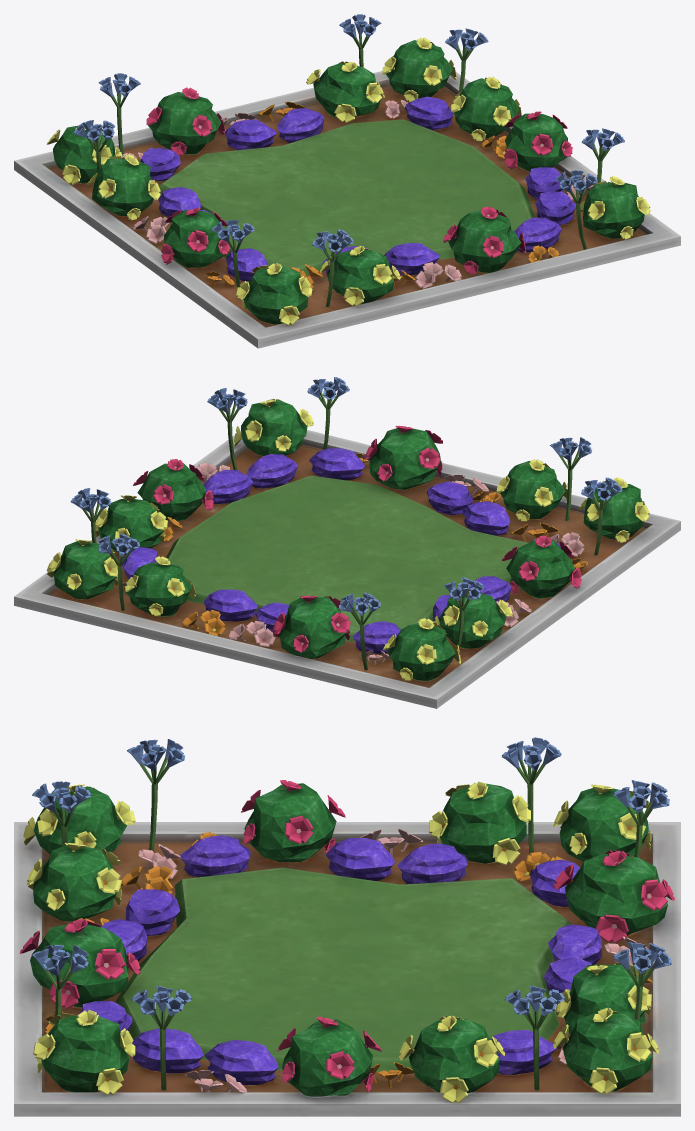
Rendered from garden.glb.
The picture shows the model from 3 angles, top to bottom: view 1: azimuth 30°, elevation 25°; view 2: azimuth 150°, elevation 25°; view 3: azimuth 270°, elevation 25°; orthographic projection. The views are drawn at different scales.
Visible parts, largest first — view 1: Garden_mesh; view 2: Garden_mesh; view 3: Garden_mesh.
Part boxes in pixels (x1,y1,x2,y2): Garden_mesh: (14,14,680,348); Garden_mesh: (14,377,680,708); Garden_mesh: (14,737,680,1116).
Bounding box in the file's own units: 24.18 × 4.27 × 23.96.
Materials: 1 (1 with a texture image).
